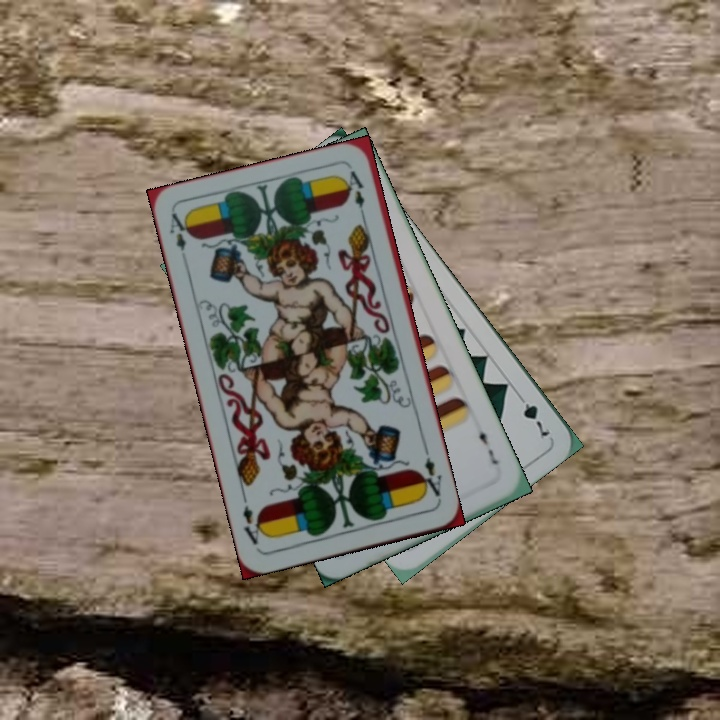E7: (475, 421, 502, 468)
EA: (415, 445, 445, 503), (165, 209, 194, 255)
G7: (513, 388, 553, 442)
